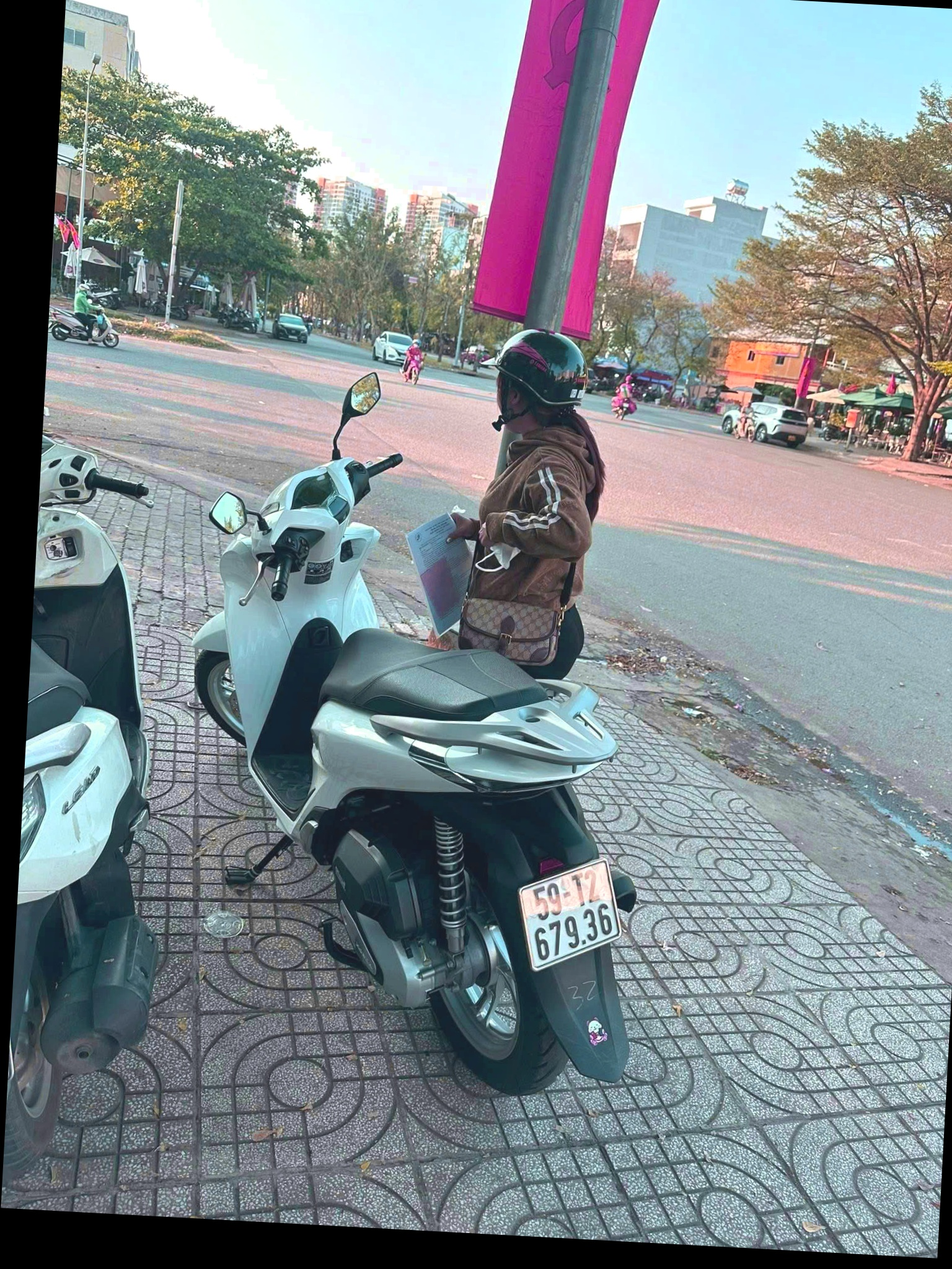Bien-so: (513, 846, 634, 979)
